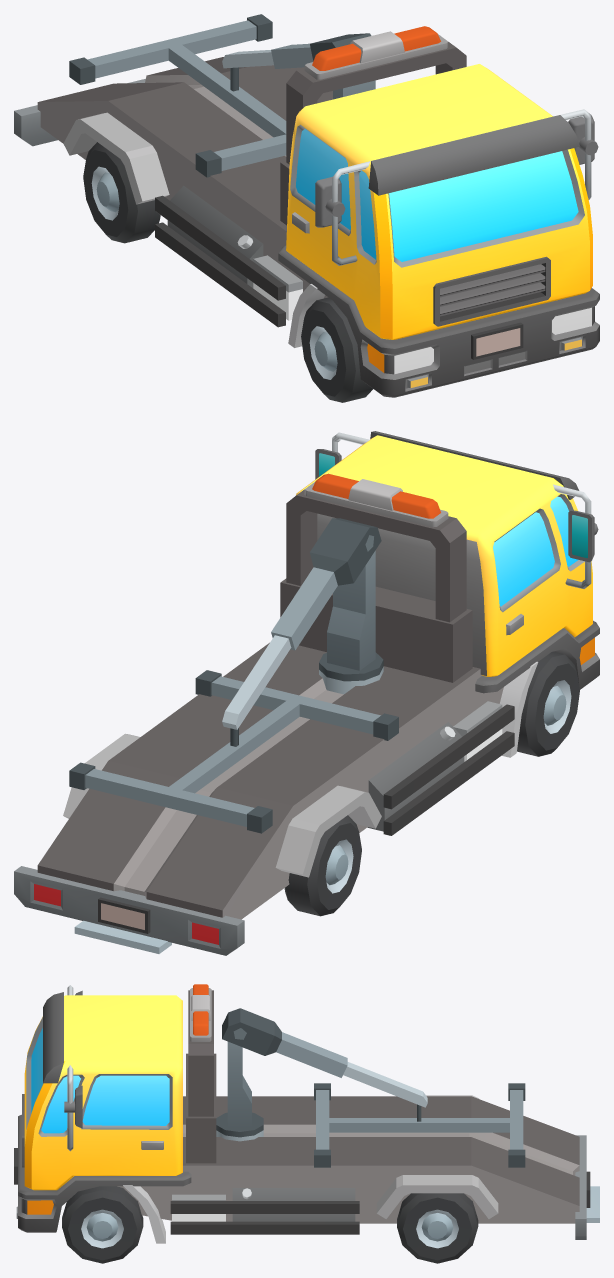
The model's file is Tow_Truck_01.glb.
The picture shows the model from 3 angles, top to bottom: view 1: azimuth 30°, elevation 25°; view 2: azimuth 150°, elevation 25°; view 3: azimuth 270°, elevation 25°; orthographic projection. The views are drawn at different scales.
Visible parts, largest first — view 1: Tow_Truck_01, Wheel_190, Wheel_189; view 2: Tow_Truck_01, Wheel_190, Wheel_189; view 3: Tow_Truck_01, Wheel_191, Wheel_192.
Boxes of the visible parts, x1,y1,x2,y2 form: Tow_Truck_01: (14,14,599,397); Wheel_190: (301,297,372,402); Wheel_189: (83,142,160,243); Tow_Truck_01: (14,431,599,955); Wheel_190: (517,651,579,756); Wheel_189: (284,815,361,916); Tow_Truck_01: (14,984,599,1243); Wheel_191: (62,1186,143,1263); Wheel_192: (397,1193,478,1263).
Size of the model in its own units: 3.1 by 3.06 by 7.39.
2 materials, 2 textured.
